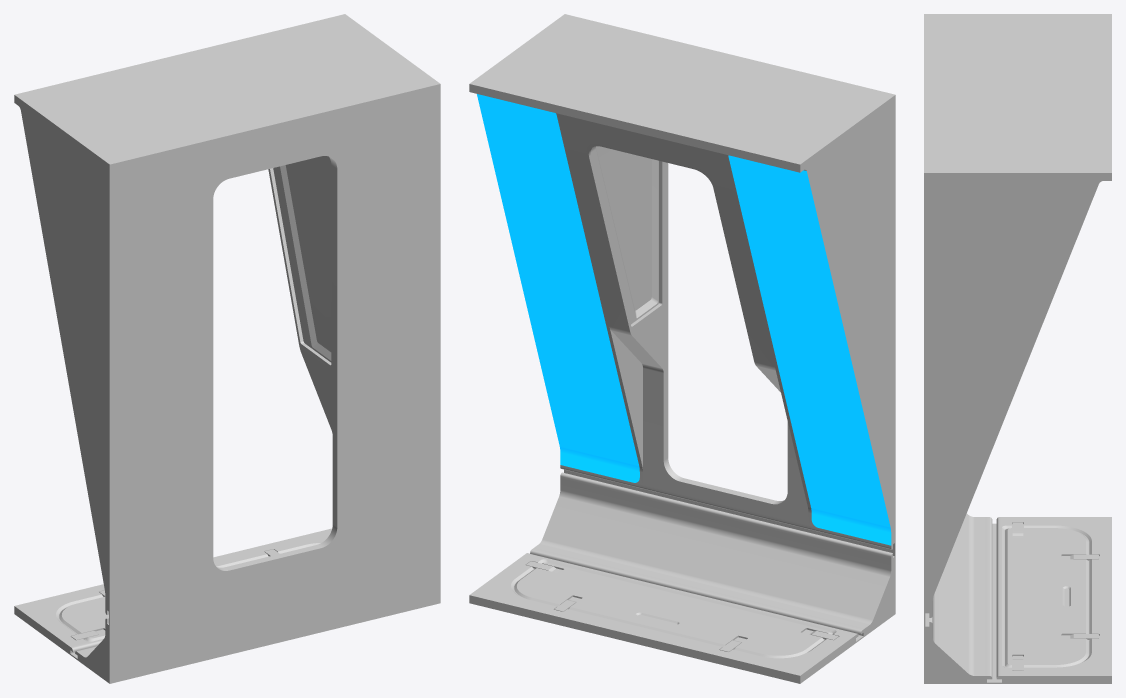
The model's file is SM_MOD_Laser_Wall_04_Window_01.fbx.
3 renders of one model, left to right at view 1: azimuth 30°, elevation 25°; view 2: azimuth 150°, elevation 25°; view 3: azimuth 270°, elevation 25°, orthographic.
Visible parts, largest first — view 1: SM_MOD_Laser_Wall_04_Window_01_LOD0; view 2: SM_MOD_Laser_Wall_04_Window_01_LOD0; view 3: SM_MOD_Laser_Wall_04_Window_01_LOD0.
Boxes of the visible parts, x1,y1,x2,y2 form: SM_MOD_Laser_Wall_04_Window_01_LOD0: (14,14,440,683); SM_MOD_Laser_Wall_04_Window_01_LOD0: (469,14,895,683); SM_MOD_Laser_Wall_04_Window_01_LOD0: (924,14,1111,683).
Size of what is drawn, in the model's own units: 512 by 768 by 256.
